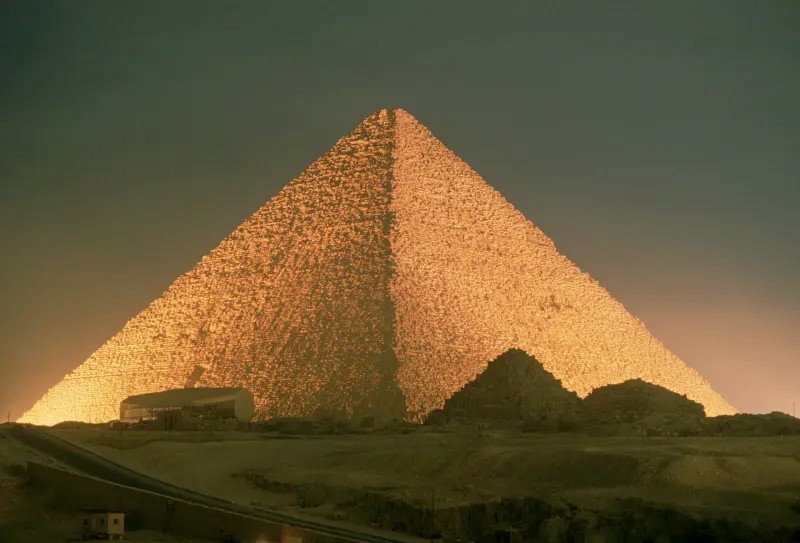Pyramid: (16, 110, 740, 432)
